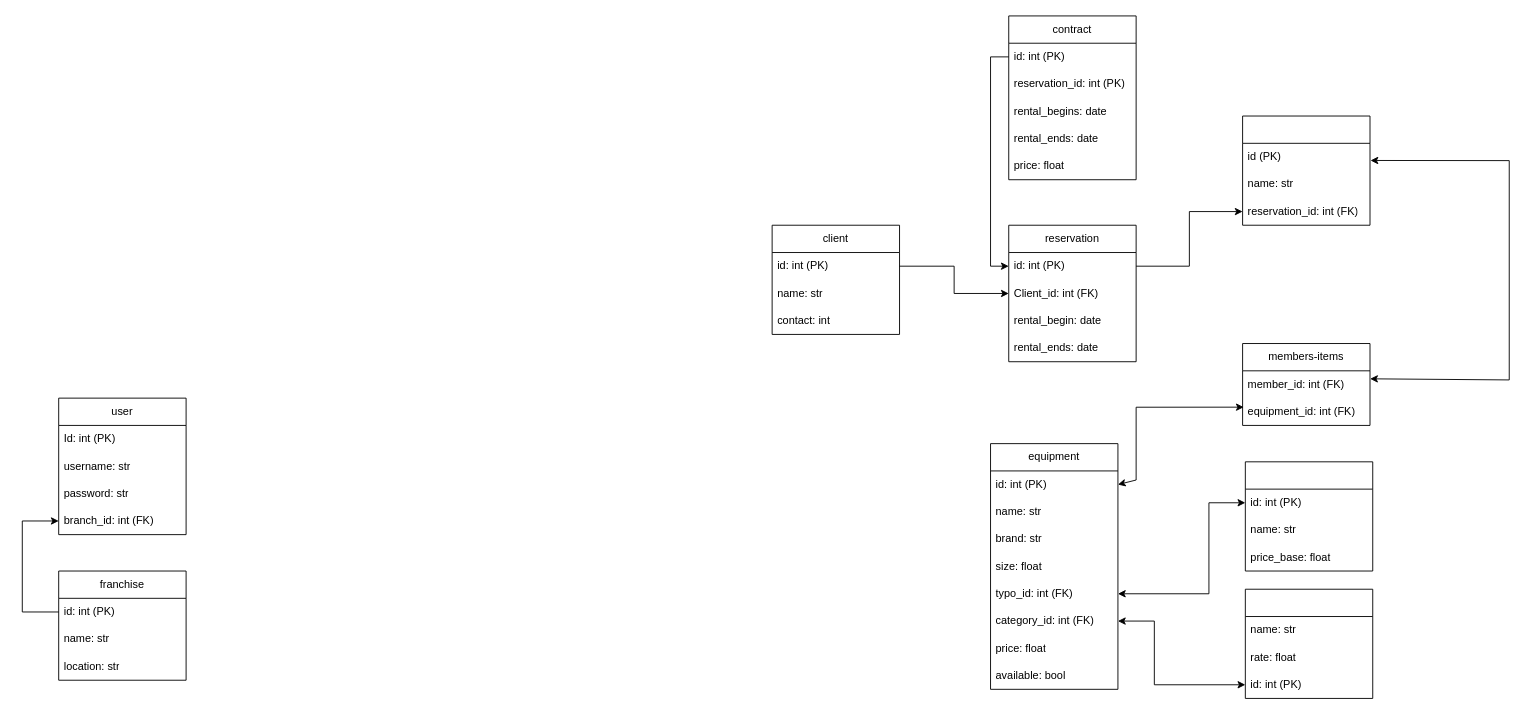
Some shapes in this 1533 by 714 pixel diagram are drawn without their labels. Here are the shapes that lost their labels. From the top down, the box of each, then its label:
(1242, 115, 1370, 225): Members
(1244, 461, 1373, 571): typo
(1244, 588, 1373, 698): category
